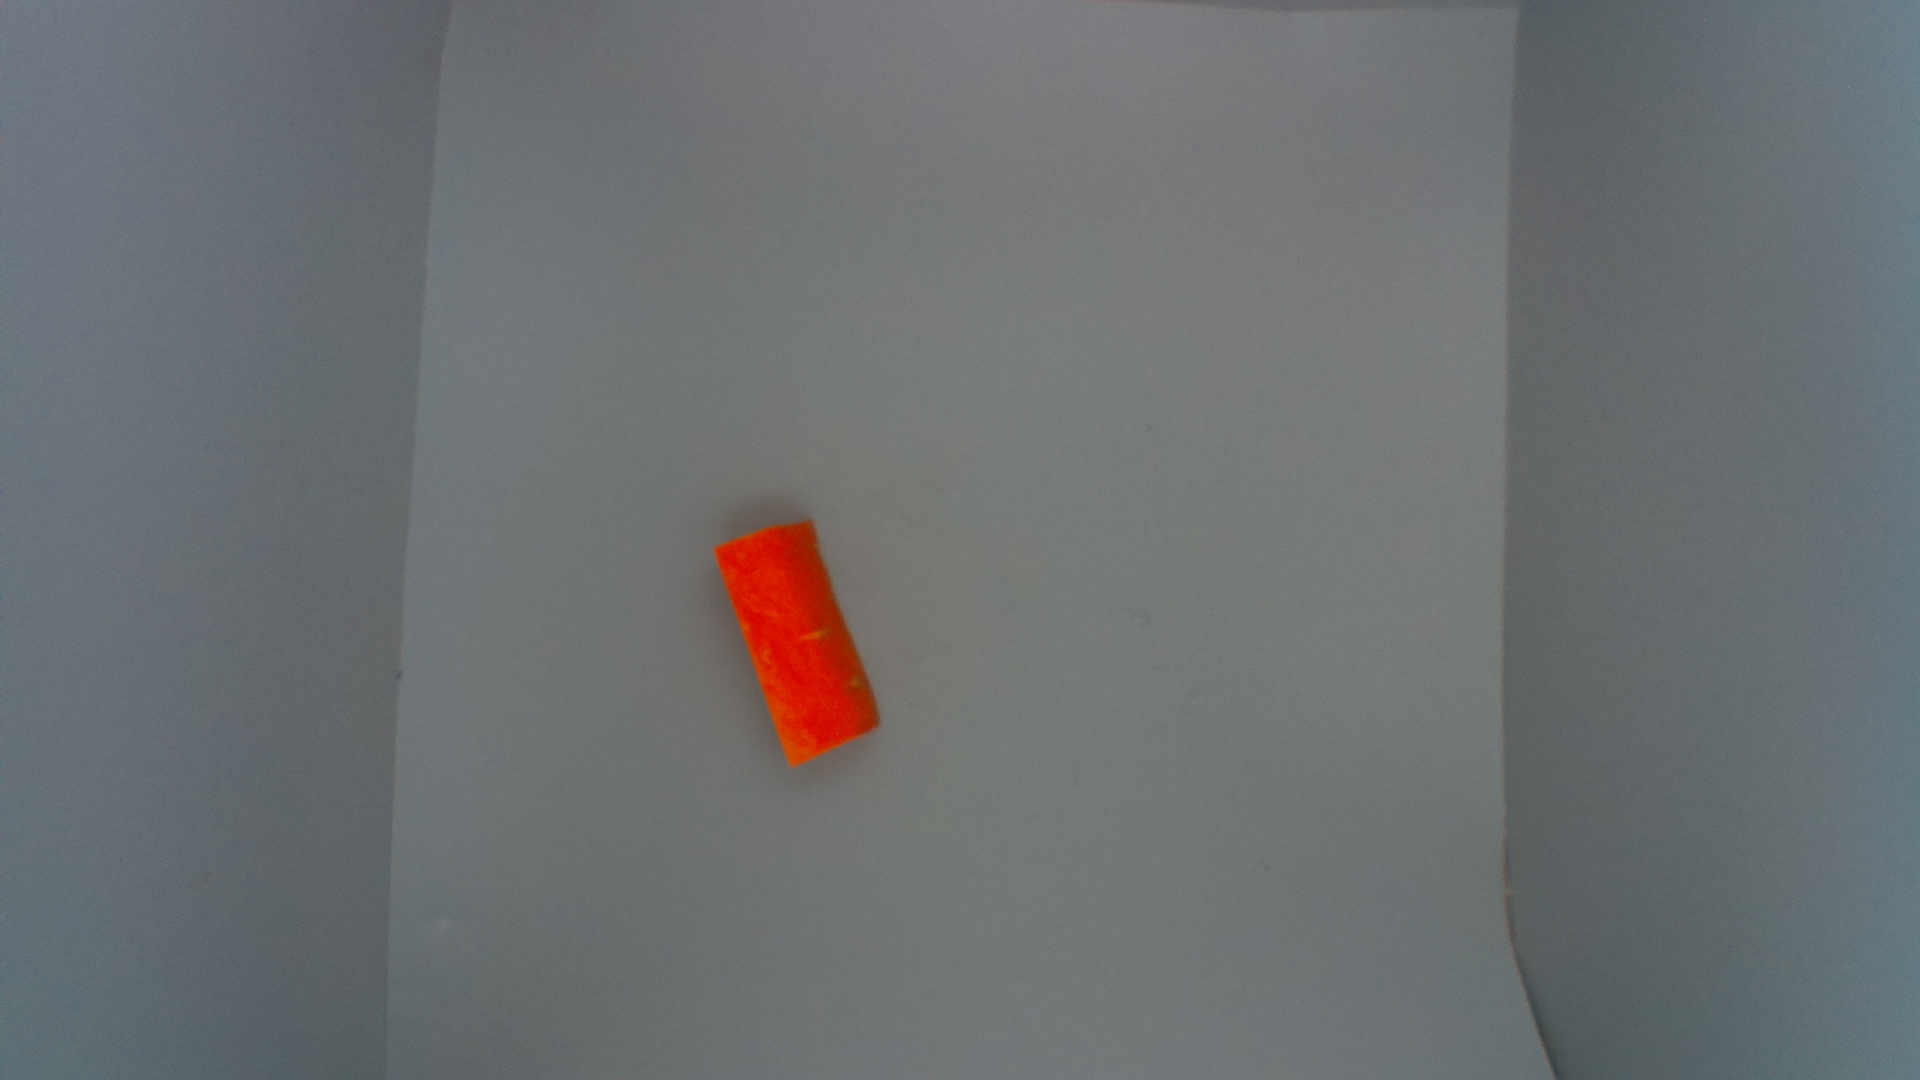carrot: (715, 520, 889, 775)
